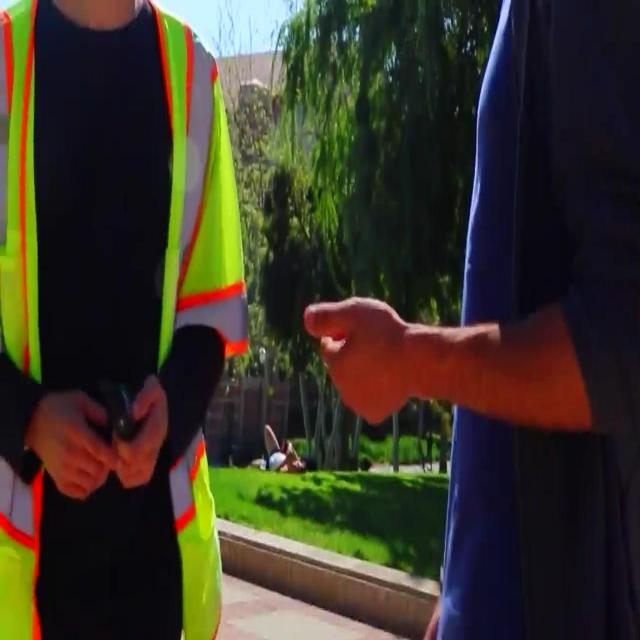Reflective-Jacket: (0, 0, 248, 634)
